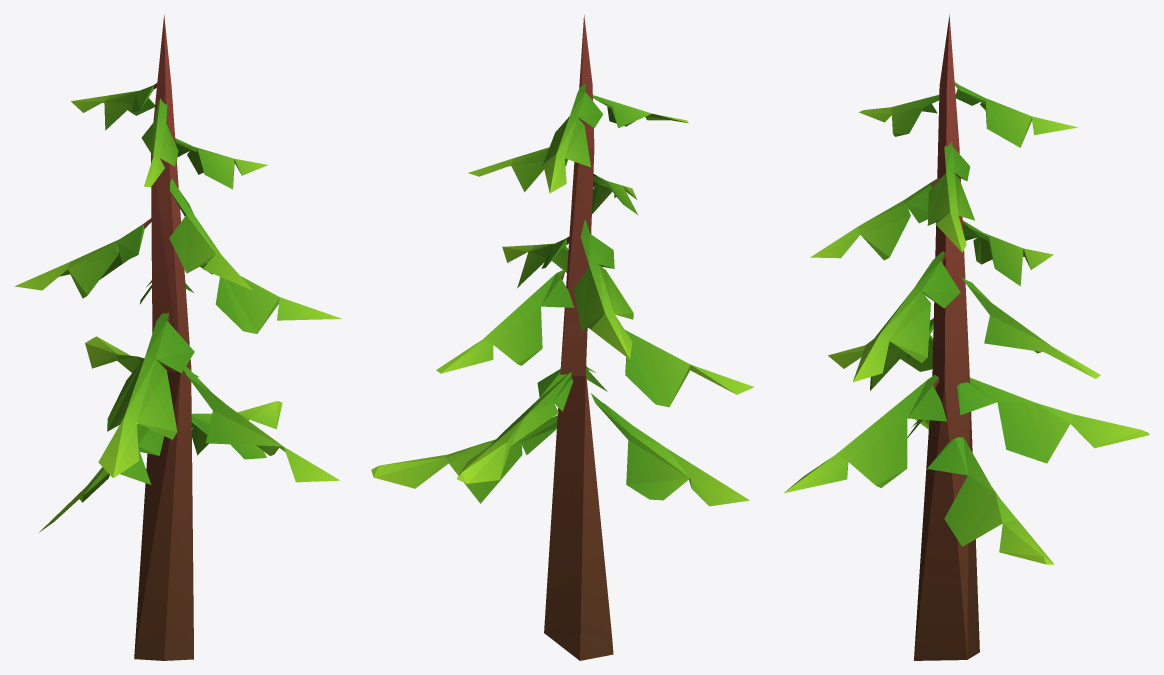
3 views of the same model, side by side, from view 1: azimuth 30°, elevation 25°; view 2: azimuth 150°, elevation 25°; view 3: azimuth 270°, elevation 25° (orthographic).
Parts seen in each view (by area): view 1: Conifer1_Distant; view 2: Conifer1_Distant; view 3: Conifer1_Distant.
Part boxes in pixels (bbox=[...]): Conifer1_Distant: bbox=[14, 15, 341, 660]; Conifer1_Distant: bbox=[371, 15, 754, 660]; Conifer1_Distant: bbox=[784, 14, 1149, 660].
Bounding box in the file's own units: 257 × 500 × 258.
1 material, 1 textured.
